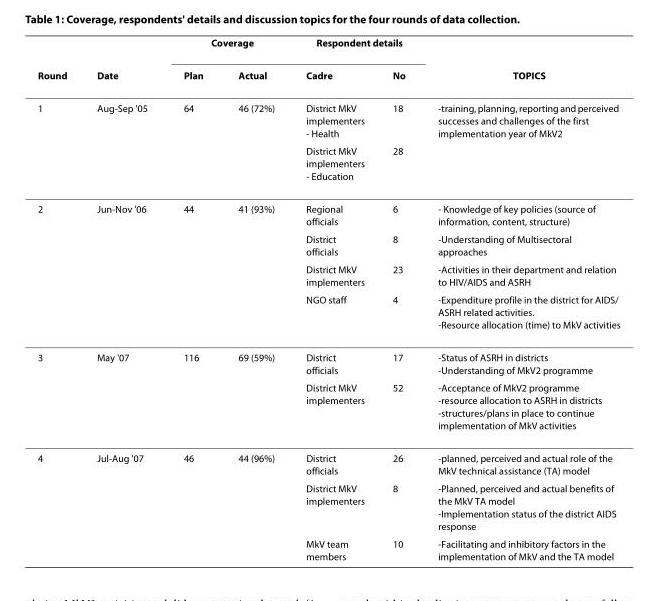table: (36, 36, 619, 561)
table column: (421, 36, 619, 561), (289, 36, 378, 561), (81, 36, 164, 561), (220, 36, 289, 561), (164, 36, 220, 561), (36, 36, 81, 561), (378, 36, 421, 561)
table column header: (36, 36, 619, 91)
table row: (36, 378, 619, 441), (36, 479, 619, 534), (36, 141, 619, 192), (36, 91, 619, 141), (36, 290, 619, 340), (36, 340, 619, 378), (36, 441, 619, 479), (36, 192, 619, 229), (36, 58, 619, 91), (36, 229, 619, 260), (36, 260, 619, 290), (36, 534, 619, 561), (36, 36, 619, 58)
table spanning cell: (421, 36, 619, 91), (36, 192, 81, 340), (36, 441, 81, 561), (81, 36, 164, 91), (36, 91, 81, 192), (36, 340, 81, 441), (289, 36, 421, 58), (164, 36, 289, 58), (36, 36, 81, 91)
